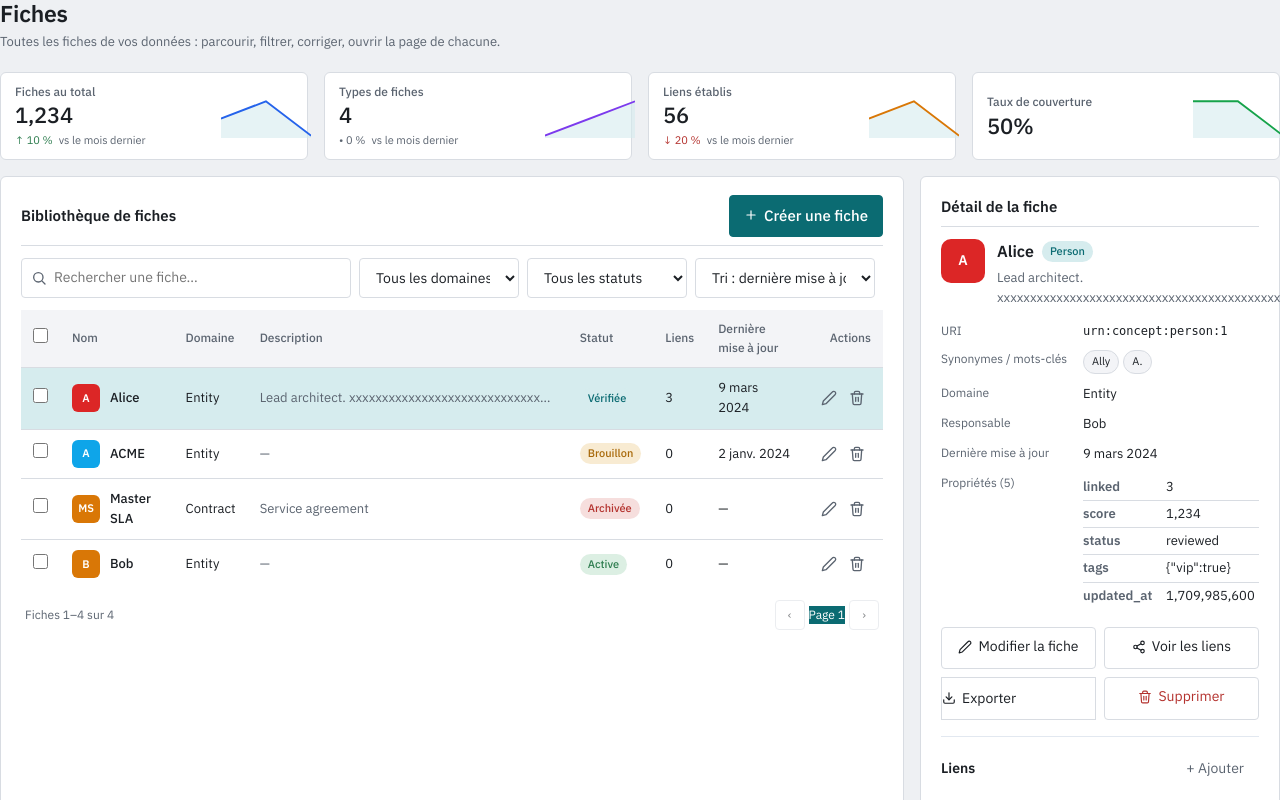
Test: Concepts page — selection and bulk delete › shows the API error when the bulk delete fails and keeps the rows
Check: the text "Alice" is shown, box [110, 388, 140, 408]
What coordinates should you click on to do the following:
click the checkbox named "Sélectionner la fiche Bob"
I would click on:
 (40, 561)
Its box is [33, 554, 48, 568].
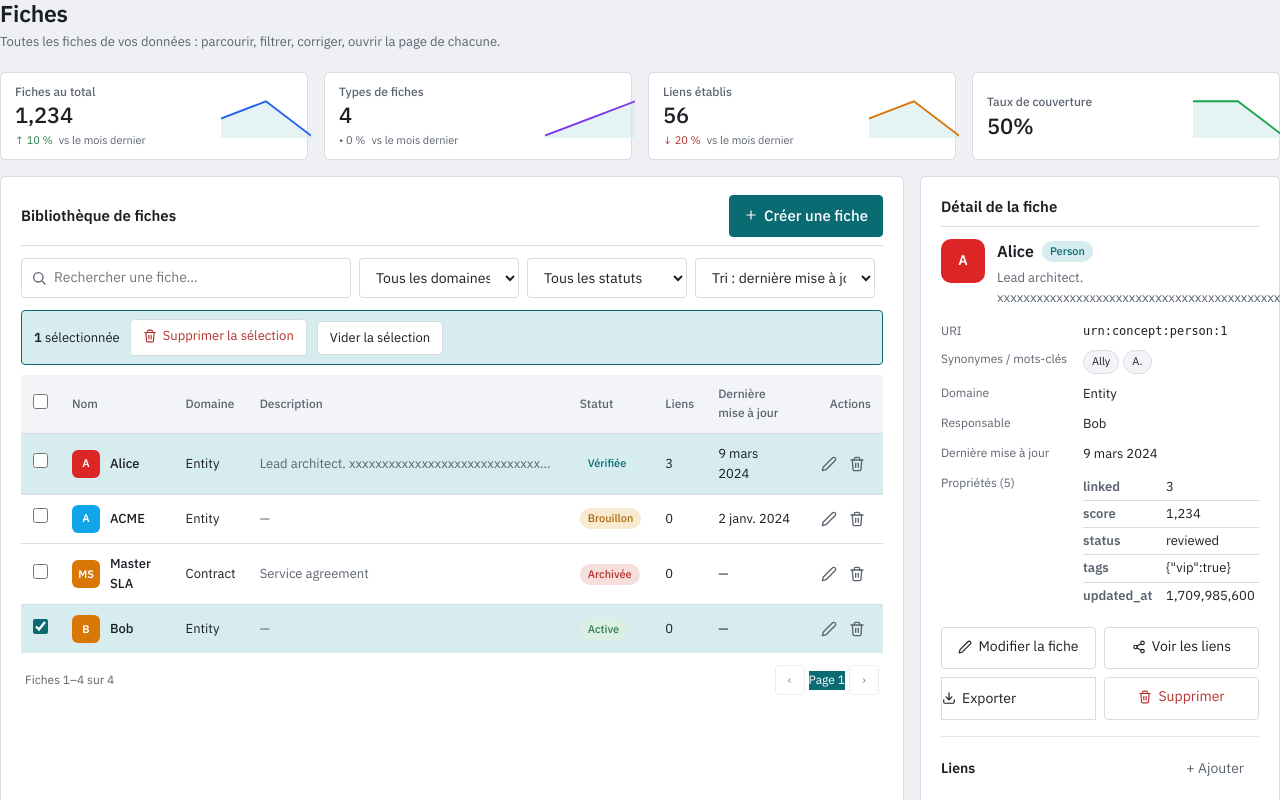
What coordinates should you click on to do the following:
click the button "Supprimer la sélection"
I would click on:
 (218, 338)
Its box is [130, 319, 307, 356].
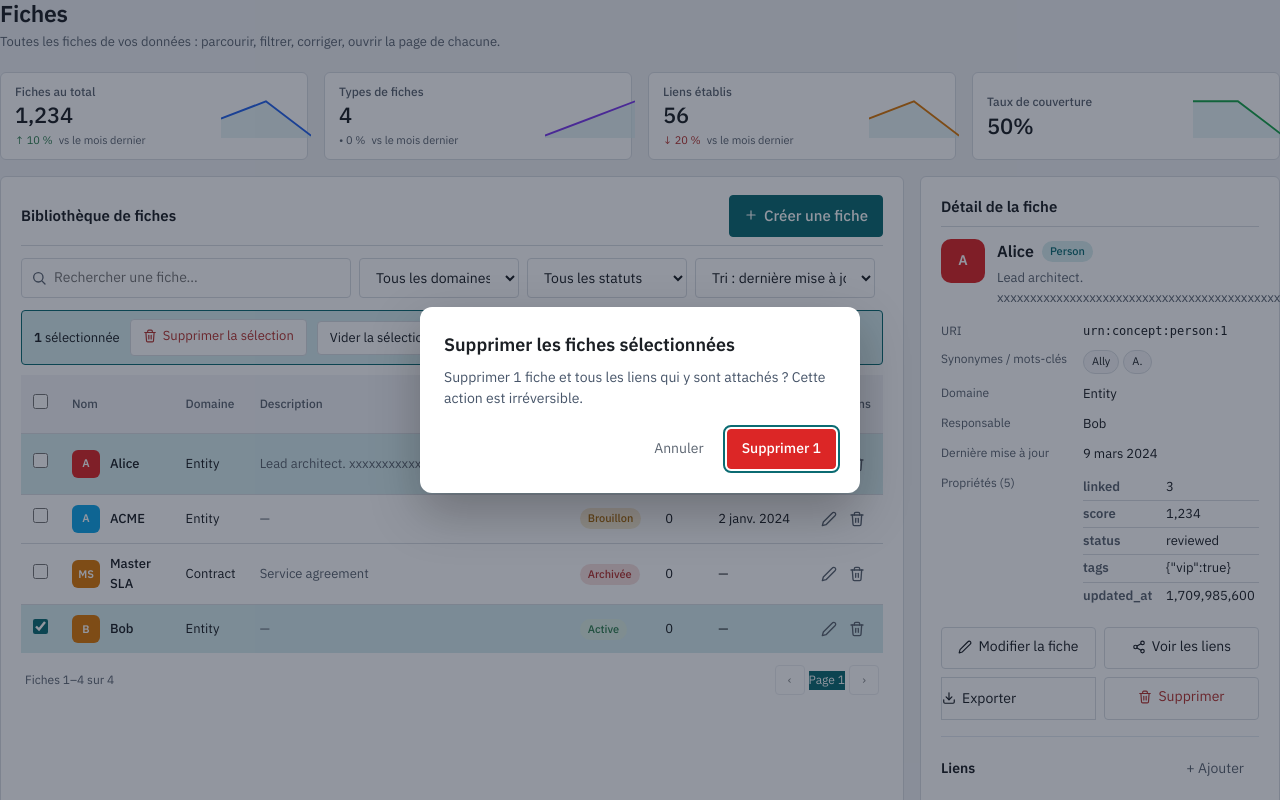
What coordinates should you click on to do the following:
click the button "Supprimer 1"
I would click on:
 (781, 449)
Its box is [727, 429, 836, 469].
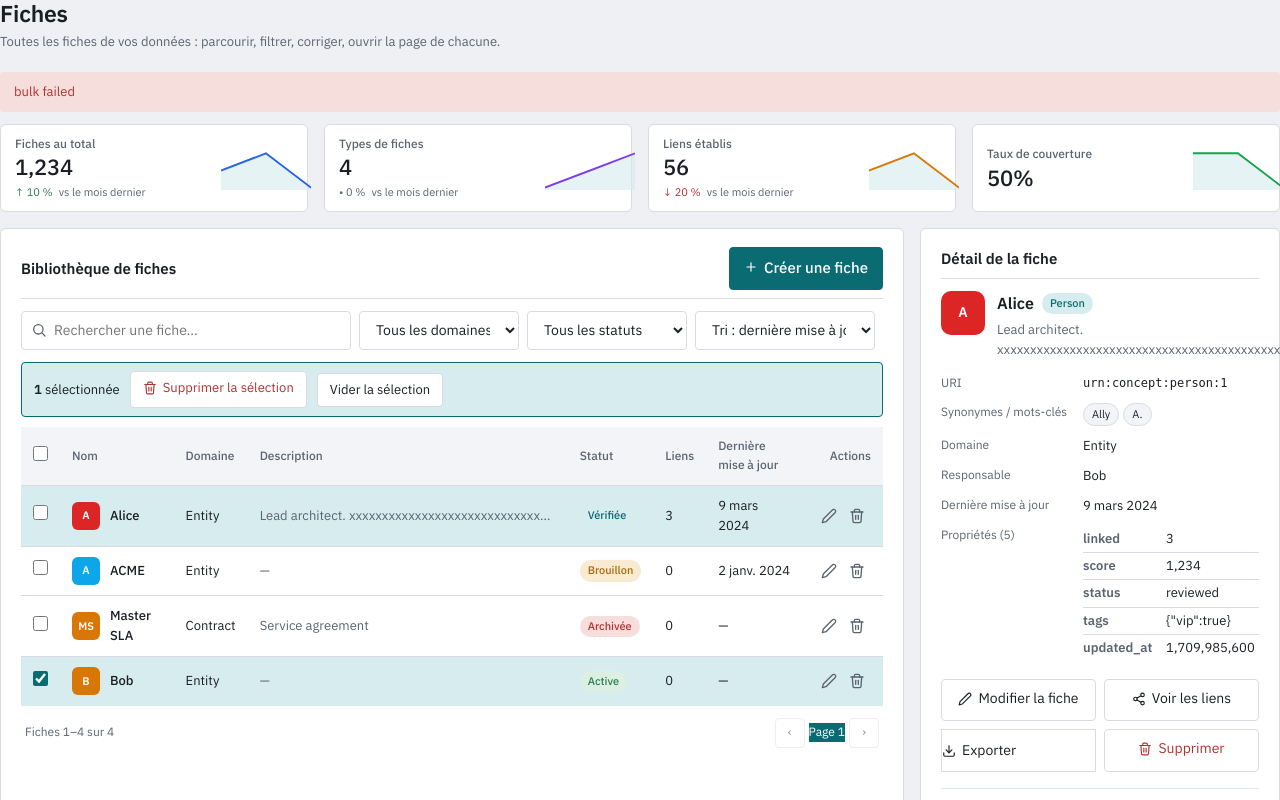
Check: the text "bulk failed" is shown, box [0, 72, 1279, 112]
